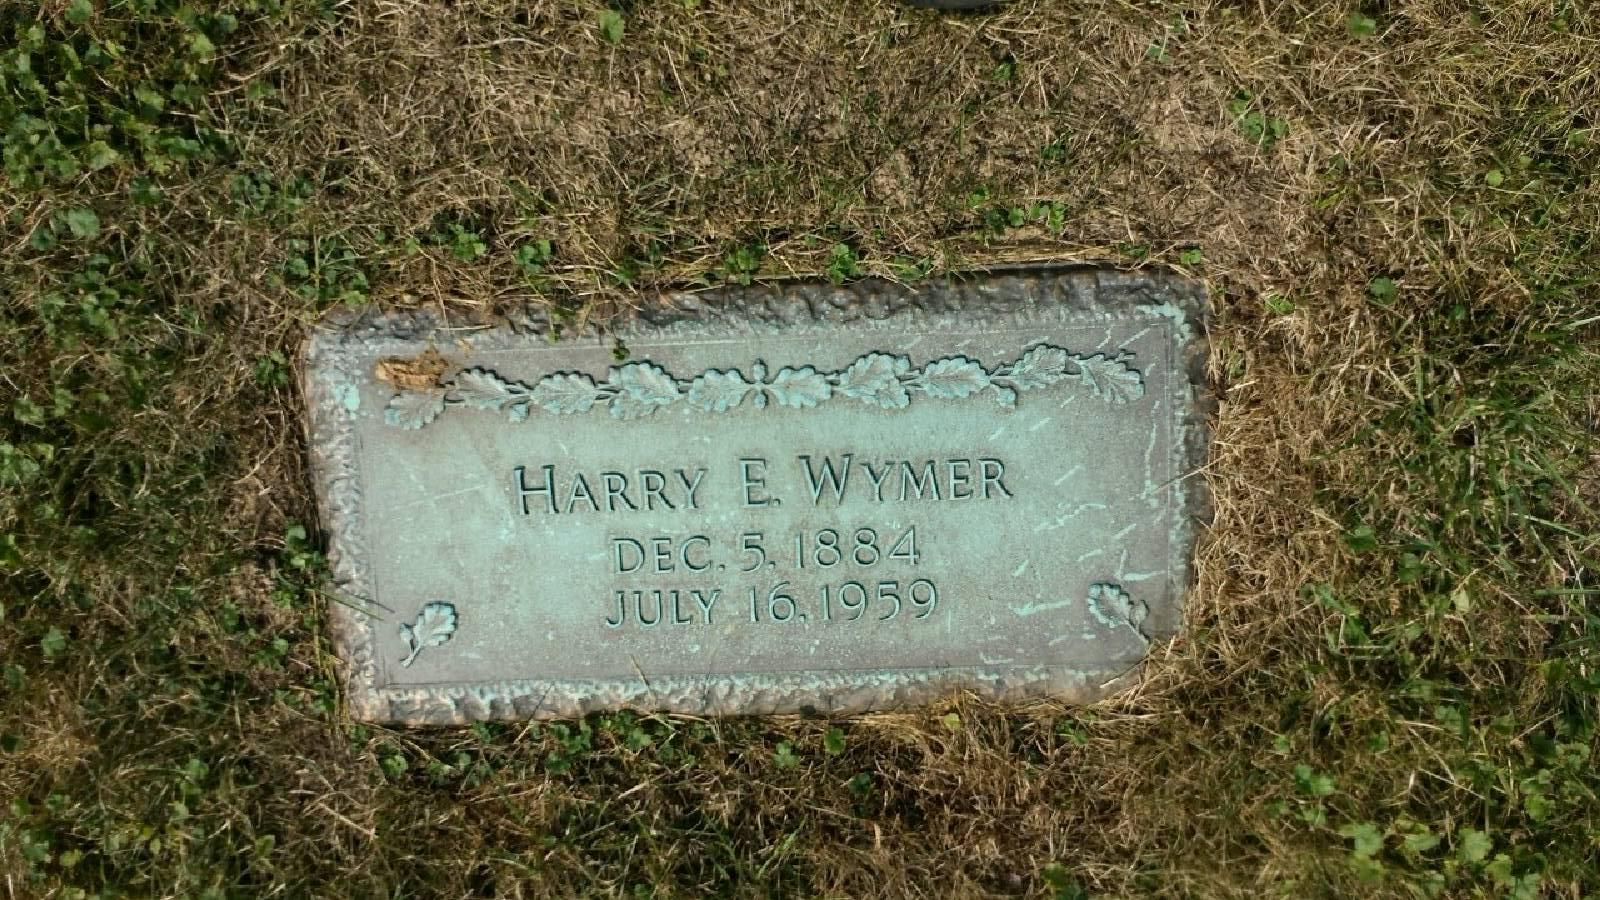flat: (271, 302, 1209, 740)
